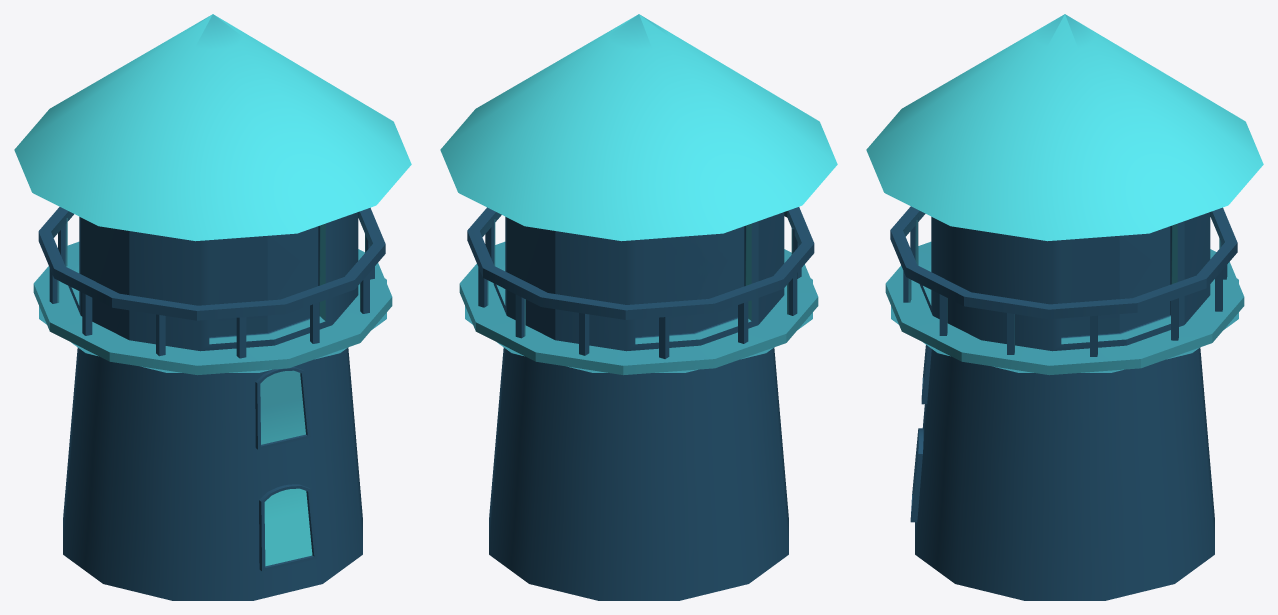
File: Lighthouse_LV3.FBX
The picture shows the model from 3 angles, left to right: view 1: azimuth 30°, elevation 25°; view 2: azimuth 150°, elevation 25°; view 3: azimuth 270°, elevation 25°; orthographic projection.
Parts seen in each view (by area): view 1: Lighthouse_LV3; view 2: Lighthouse_LV3; view 3: Lighthouse_LV3.
Boxes of the visible parts, x1,y1,x2,y2 form: Lighthouse_LV3: (14, 14, 411, 600); Lighthouse_LV3: (440, 14, 837, 600); Lighthouse_LV3: (866, 14, 1263, 600).
Bounding box in the file's own units: 15.28 × 22.21 × 15.28.
